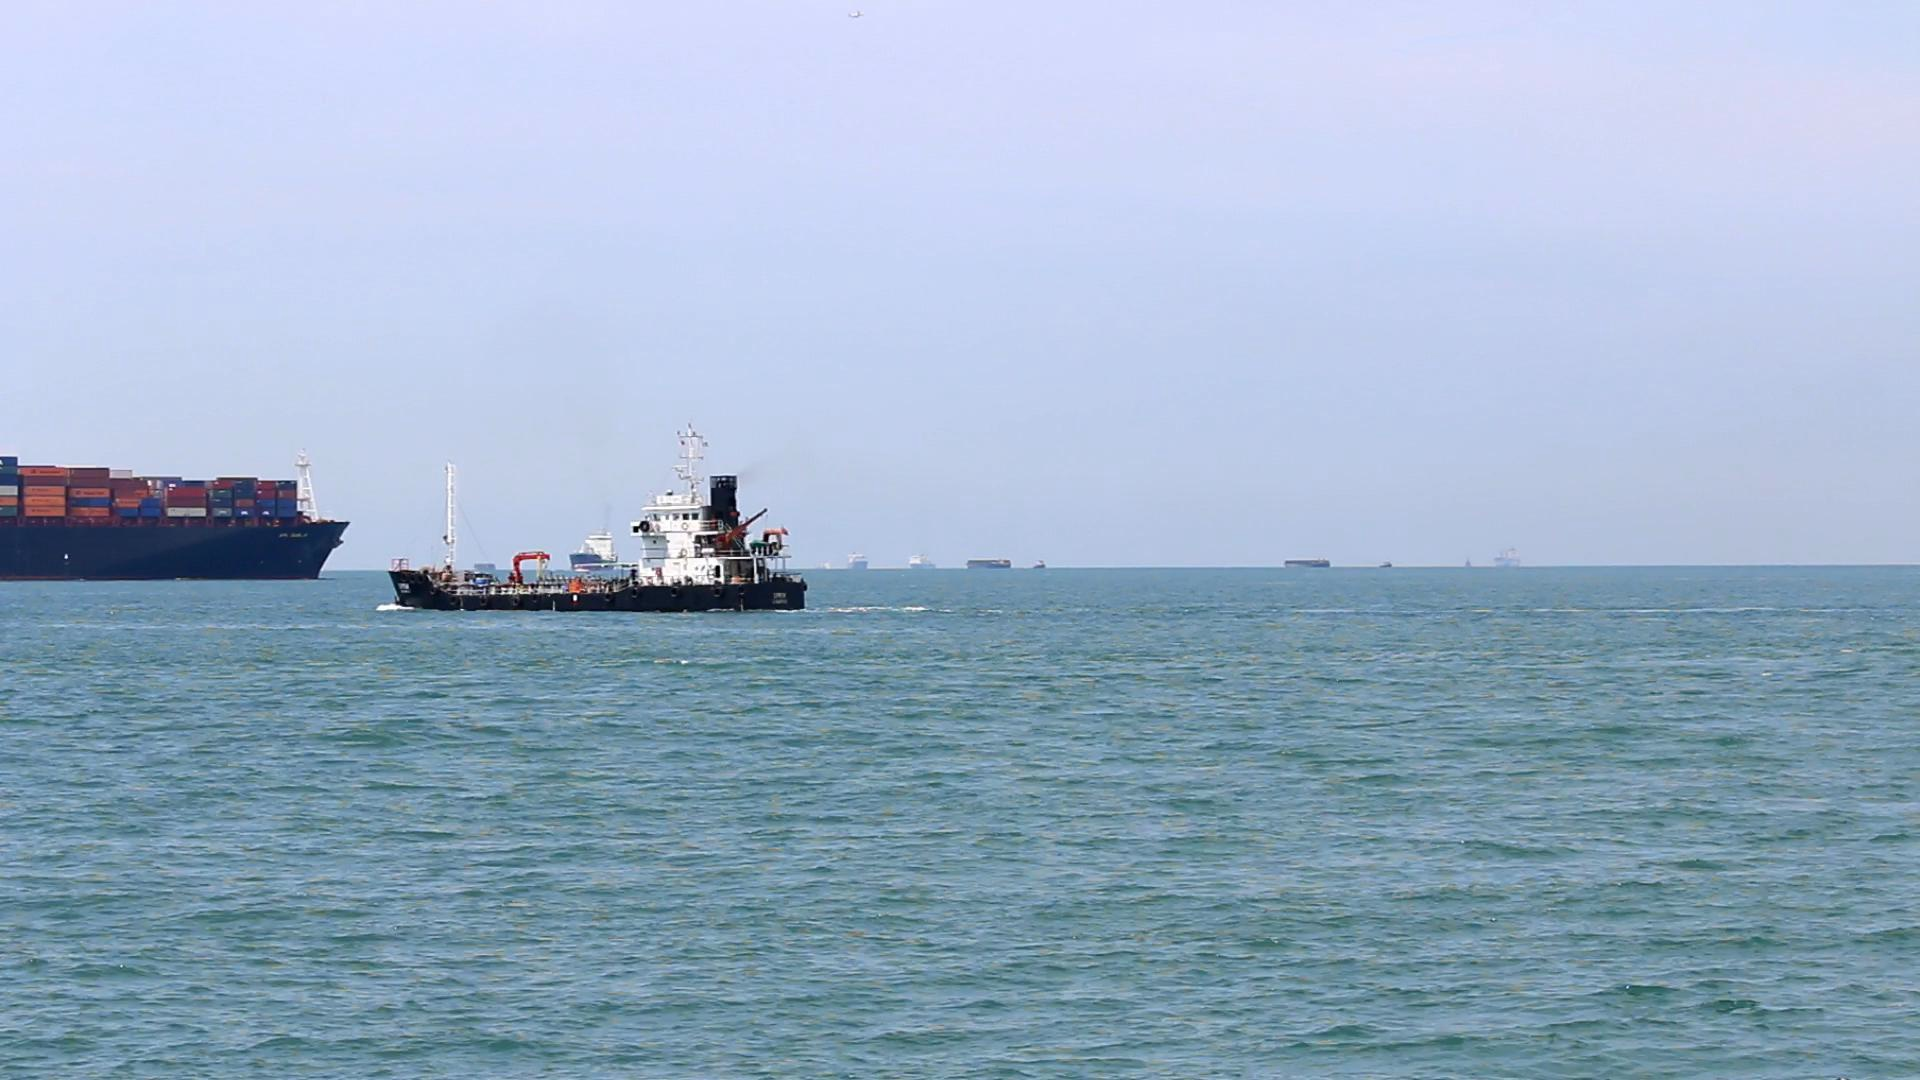Container Ship: (381, 419, 816, 620), (0, 435, 357, 592), (1278, 550, 1340, 580), (961, 549, 1015, 583), (1484, 542, 1530, 578), (902, 545, 944, 582), (843, 545, 877, 583)
